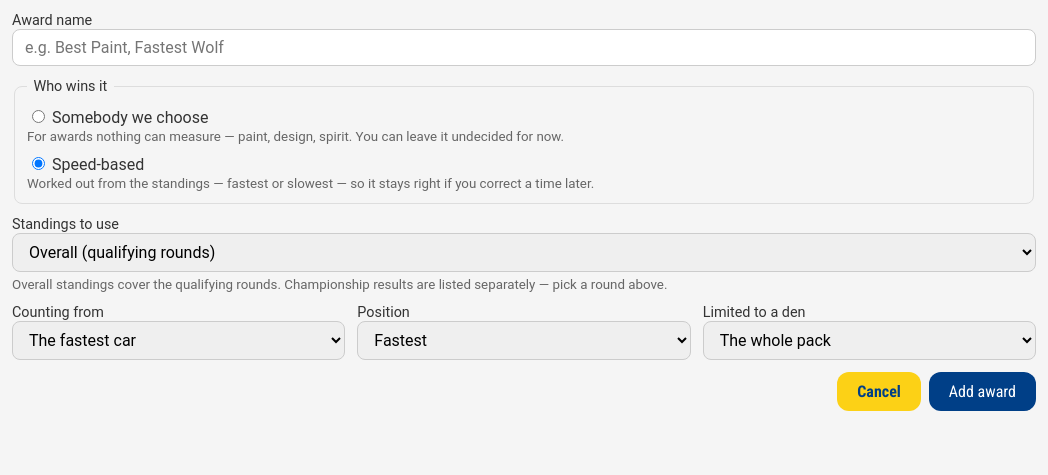
Scenario: AwardForm › shows the chosen template's blurb as help text (#440)
Click the radio button labelled "Somebody we choose".
click(38, 116)  # box [32,110,45,123]
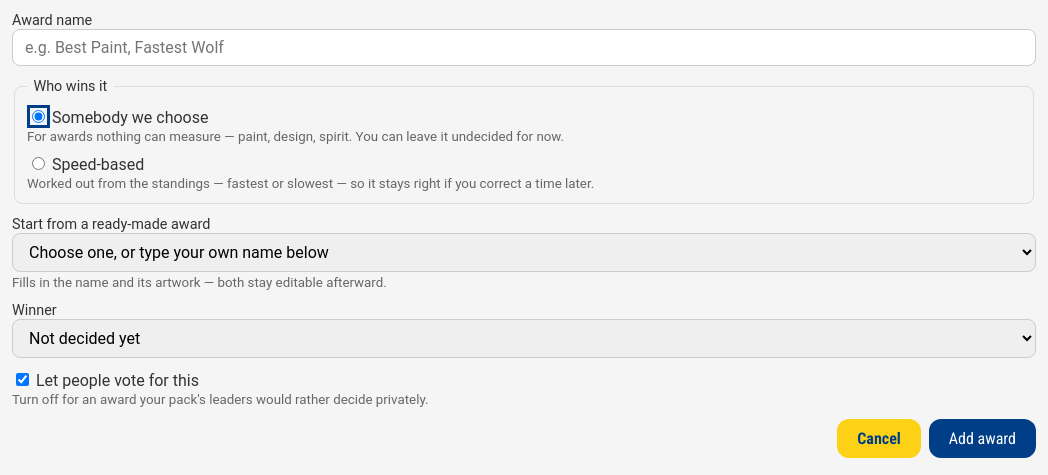
Select "Best Paint" in the dropdown labelled "Start from a ready-made award" at (524, 253), box [12,233,1036,272]
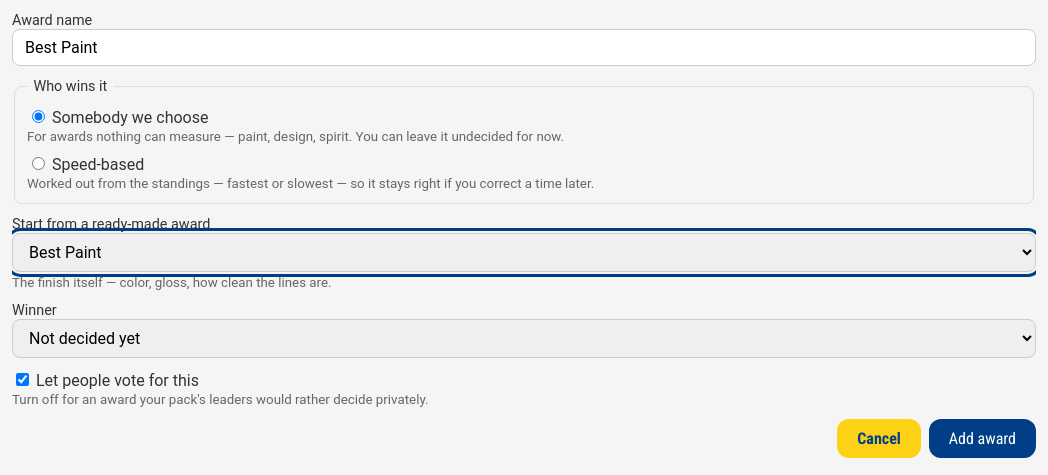
Check: the text "The finish itself — color, gloss, how clean the lines are." is shown, box [12,275,332,290]
Check: the text "Fills in the name and its artwork — both stay editable afterward." is gone
